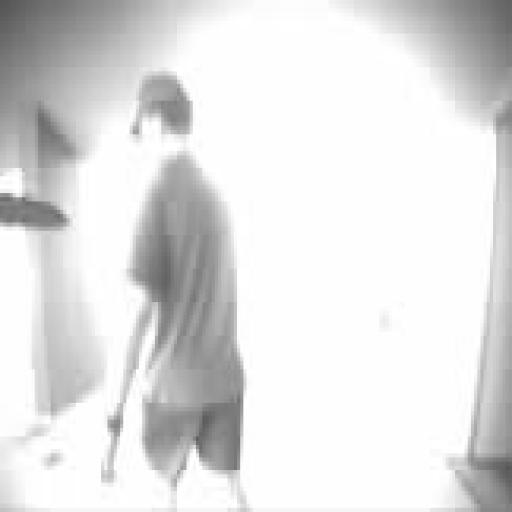human: (102, 72, 246, 511)
